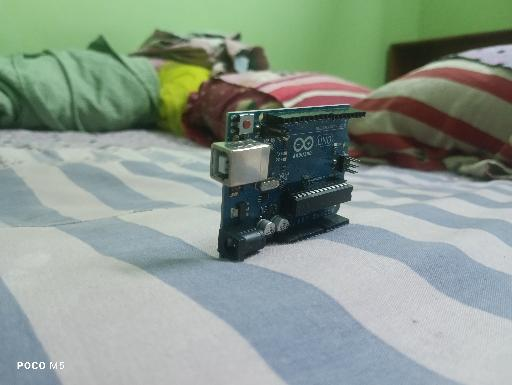Arduino: (209, 103, 367, 264)
